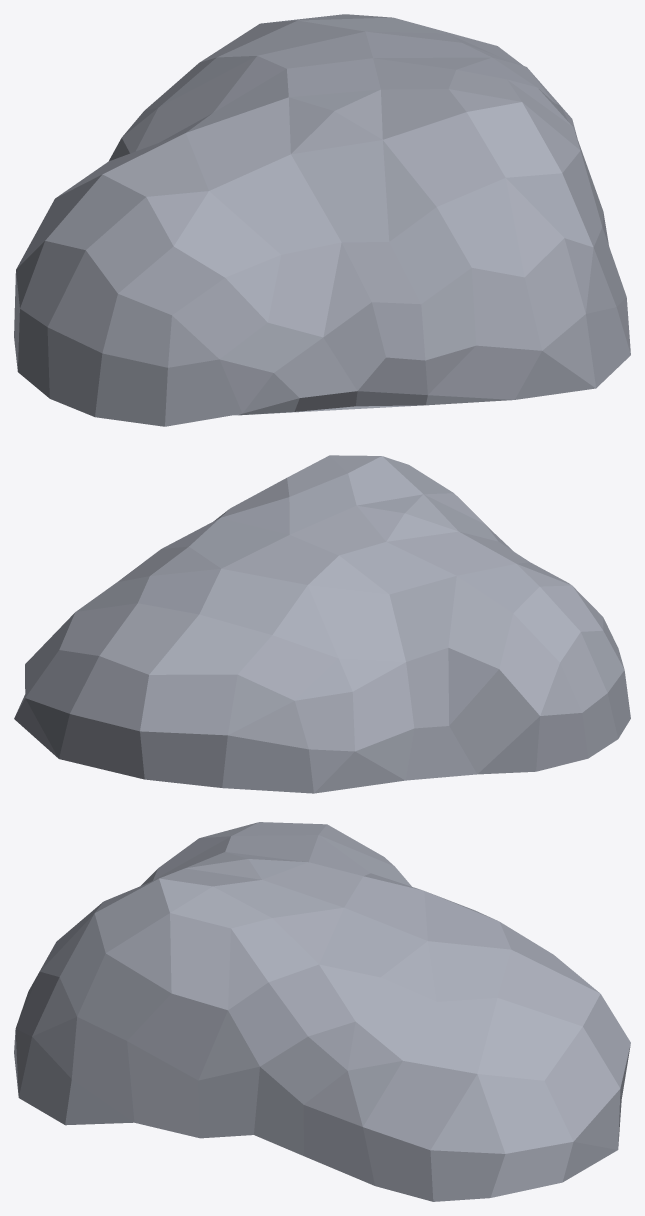
The model's file is rock_3.glb.
3 views of the same model, one above another, from view 1: azimuth 30°, elevation 25°; view 2: azimuth 150°, elevation 25°; view 3: azimuth 270°, elevation 25° (orthographic). The views are drawn at different scales.
Parts seen in each view (by area): view 1: rock_3; view 2: rock_3; view 3: rock_3.
Boxes of the visible parts, box(x1,y1,x2,y2) form: rock_3: box(14, 14, 630, 426); rock_3: box(14, 455, 630, 793); rock_3: box(14, 822, 630, 1201).
Bounding box in the file's own units: 3.85 × 1.41 × 3.74.
1 material, 1 textured.
